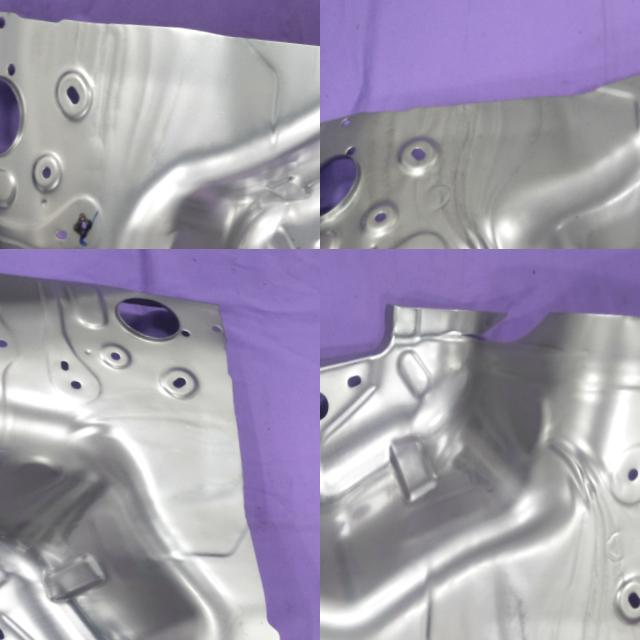Defect: (454, 282, 566, 374), (0, 417, 21, 469)
Healthy: (0, 0, 320, 249)
